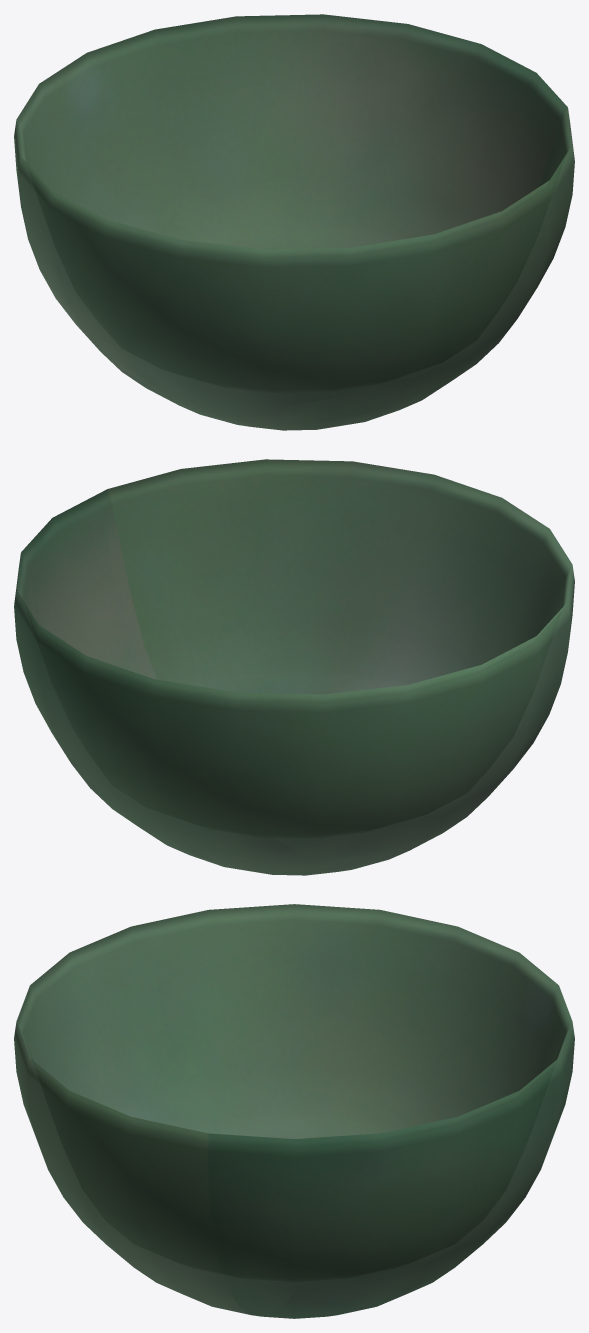
Rendered from bowl.fbx.
3 views of the same model, one above another, from view 1: azimuth 30°, elevation 25°; view 2: azimuth 150°, elevation 25°; view 3: azimuth 270°, elevation 25° (orthographic).
Visible parts, largest first — view 1: pSphere1; view 2: pSphere1; view 3: pSphere1.
Boxes of the visible parts, bbox=[...] form: pSphere1: bbox=[14, 14, 574, 430]; pSphere1: bbox=[14, 459, 574, 875]; pSphere1: bbox=[14, 904, 574, 1318].
Bounding box in the file's own units: 10.05 × 5.36 × 10.05.
